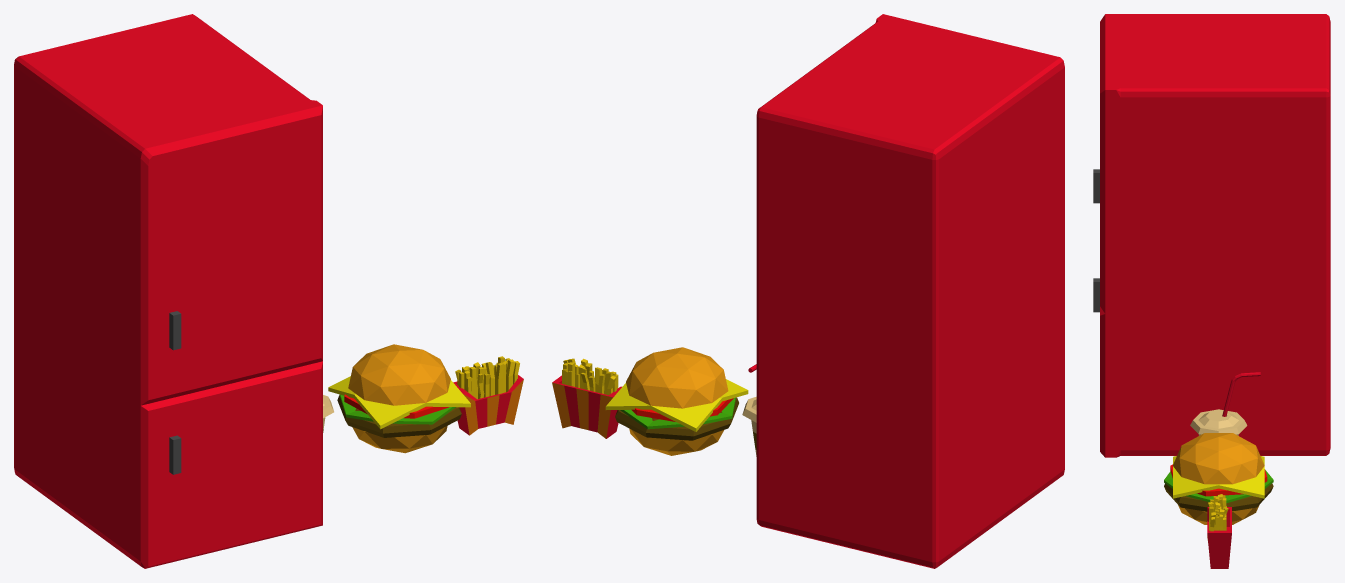
The model's file is Kitchen.fbx.
3 renders of one model, left to right at view 1: azimuth 30°, elevation 25°; view 2: azimuth 150°, elevation 25°; view 3: azimuth 270°, elevation 25°, orthographic. The views are drawn at different scales.
Visible parts, largest first — view 1: Cube.005, Plane.001, Cube.027; view 2: Cube.005, Plane.001, Cube.027; view 3: Cube.005, Plane.001, Cube.027, Cylinder.005.
Boxes of the visible parts, x1=… form: Cube.005: x1=14, y1=14, x2=322, y2=568; Plane.001: x1=328, y1=344, x2=470, y2=453; Cube.027: x1=453, y1=356, x2=523, y2=435; Cube.005: x1=756, y1=14, x2=1064, y2=568; Plane.001: x1=605, y1=347, x2=748, y2=455; Cube.027: x1=552, y1=358, x2=621, y2=438; Cube.005: x1=1093, y1=14, x2=1330, y2=457; Plane.001: x1=1164, y1=433, x2=1273, y2=524; Cube.027: x1=1207, y1=494, x2=1231, y2=568; Cylinder.005: x1=1190, y1=372, x2=1260, y2=435.
Bounding box in the file's own units: 1112 × 1022 × 590.
